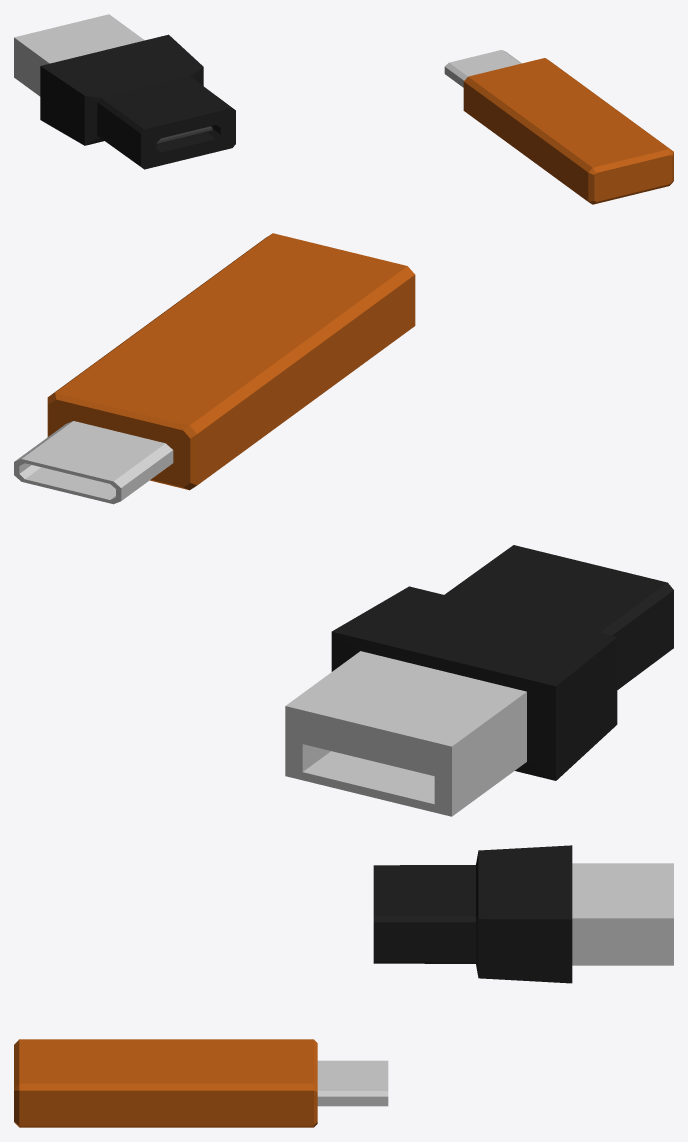
File: ThumbDrive.fbx
The picture shows the model from 3 angles, top to bottom: view 1: azimuth 30°, elevation 25°; view 2: azimuth 150°, elevation 25°; view 3: azimuth 270°, elevation 25°; orthographic projection. The views are drawn at different scales.
Visible parts, largest first — view 1: USBAdapter, USBcThumbDrive; view 2: USBAdapter, USBcThumbDrive; view 3: USBAdapter, USBcThumbDrive.
Boxes of the visible parts, left/top/right/bottom form: USBAdapter: left=14, top=14, right=235, bottom=169; USBcThumbDrive: left=444, top=50, right=673, bottom=204; USBAdapter: left=285, top=545, right=673, bottom=816; USBcThumbDrive: left=14, top=233, right=415, bottom=504; USBAdapter: left=373, top=845, right=673, bottom=983; USBcThumbDrive: left=14, top=1039, right=388, bottom=1127.
Bounding box in the file's own units: 649 × 83.88 × 784.
